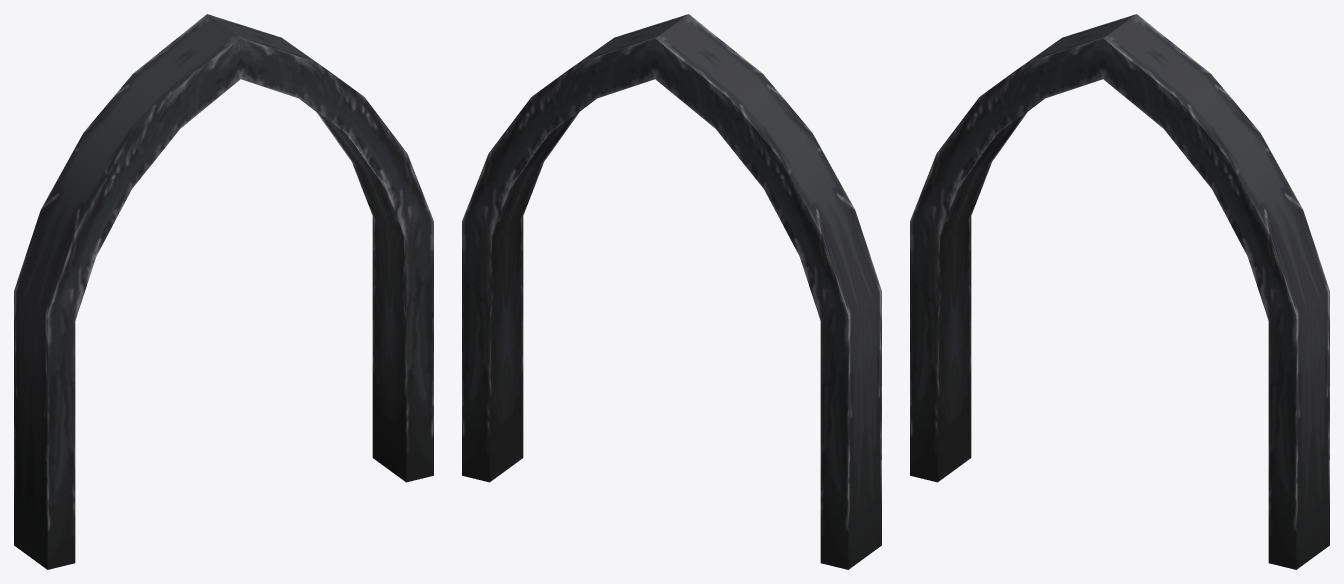
The model's file is e_asset_prison_door.fbx.
The picture shows the model from 3 angles, left to right: view 1: azimuth 30°, elevation 25°; view 2: azimuth 150°, elevation 25°; view 3: azimuth 330°, elevation 25°; orthographic projection.
Parts seen in each view (by area): view 1: polySurface2771; view 2: polySurface2771; view 3: polySurface2771.
Boxes of the visible parts, x1,y1,x2,y2 form: polySurface2771: [14, 14, 433, 569]; polySurface2771: [462, 14, 881, 569]; polySurface2771: [910, 14, 1329, 569].
Size of the model in its own units: 1.86 by 2.23 by 0.2796.
